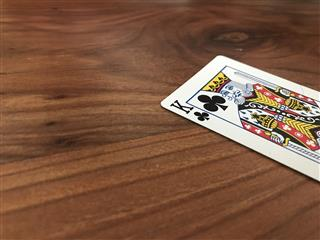KingOfClubs: (158, 53, 320, 182)
